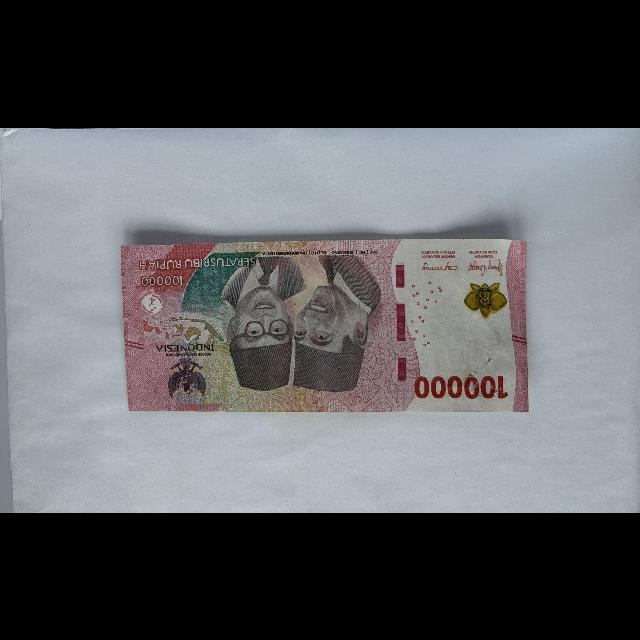Palsu-100k: (119, 237, 531, 413)
Tinta-Palsu-100k: (463, 282, 507, 319)
